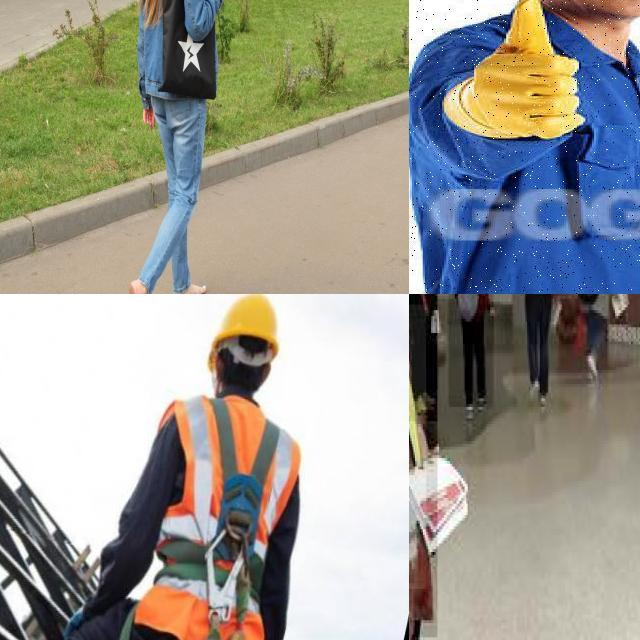Barefoots: (173, 284, 206, 294), (129, 279, 144, 294)
Harness: (205, 398, 281, 640)
hand_glove: (444, 0, 584, 138)
person: (448, 294, 495, 410), (518, 294, 557, 421), (572, 294, 623, 390), (409, 294, 437, 421)
shoes: (584, 351, 600, 380), (524, 376, 538, 401), (462, 400, 477, 422), (475, 390, 489, 412), (538, 390, 548, 418)
